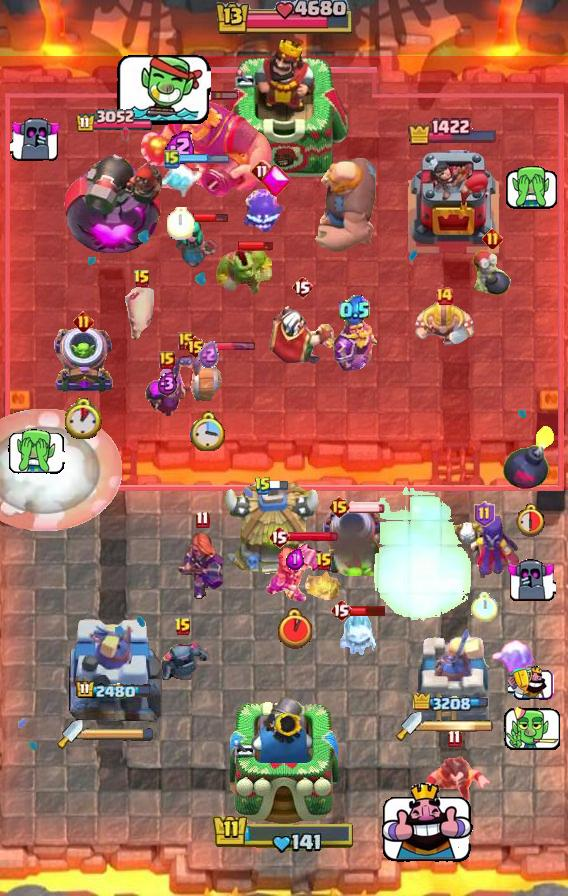bar: (288, 530, 339, 543), (178, 153, 229, 165), (204, 341, 256, 352), (350, 604, 387, 617), (193, 211, 229, 224), (348, 501, 386, 513), (203, 90, 240, 102), (238, 240, 274, 252), (270, 480, 289, 491)
bar-level: (250, 159, 274, 183), (328, 495, 351, 519), (184, 335, 207, 359), (474, 501, 495, 527), (330, 598, 352, 622), (268, 525, 290, 549), (291, 275, 313, 299), (73, 311, 94, 332), (482, 228, 503, 249), (434, 286, 454, 306), (174, 617, 192, 637), (315, 552, 333, 572), (254, 476, 272, 496), (133, 269, 151, 289), (164, 149, 180, 169), (159, 351, 175, 369), (178, 332, 194, 350), (447, 729, 462, 748), (195, 510, 210, 529)
bat: (168, 352, 204, 380)
bomb: (502, 423, 556, 491)
bomber: (471, 250, 513, 300)
cannoneer-tower: (64, 138, 164, 256)
clock: (65, 398, 102, 439), (190, 411, 226, 451), (278, 608, 312, 649), (513, 502, 545, 537), (167, 207, 195, 240), (471, 592, 498, 622)
dagger-duchess-tower: (66, 611, 162, 731), (414, 623, 492, 731)
dagger-duchess-tower-bar: (83, 727, 155, 741), (422, 719, 494, 733)
electro-spirit: (238, 186, 286, 232)
electro-wizard: (417, 750, 491, 808)
elite-barbarian: (413, 300, 475, 348)
elixir: (165, 129, 197, 164), (339, 295, 370, 326), (198, 341, 219, 368), (157, 371, 178, 396), (286, 548, 304, 570)
emote: (381, 782, 473, 864), (116, 50, 211, 126), (502, 702, 561, 753), (8, 428, 65, 474), (503, 166, 559, 210), (10, 116, 62, 162), (506, 558, 556, 602), (508, 666, 554, 701)
evolution-symbol: (261, 164, 293, 198)
goblin-brawler: (213, 247, 273, 301)
hog: (125, 286, 159, 344)
ice-spirit: (336, 612, 378, 656), (158, 163, 204, 199)
ice-spirit-evolution: (490, 640, 540, 678)
king-tower: (218, 37, 350, 181), (230, 692, 338, 826)
king-tower-bar: (212, 813, 356, 855), (213, 0, 355, 38)
knight-evolution: (332, 313, 377, 372)
lava-pup: (303, 568, 345, 604)
mini-pekka: (155, 639, 211, 685)
mortar-evolution: (321, 506, 385, 576), (51, 325, 115, 395)
mother-witch: (139, 364, 195, 426)
queen-tower: (403, 146, 503, 256)
rascal-girl: (174, 220, 220, 270)
tower-bar: (407, 117, 499, 146), (75, 109, 154, 134), (413, 693, 494, 715), (75, 680, 153, 701)
valkyrie-evolution: (263, 542, 327, 604), (176, 530, 228, 602)
wall-breaker: (186, 346, 230, 404)
witch: (449, 516, 519, 578)
